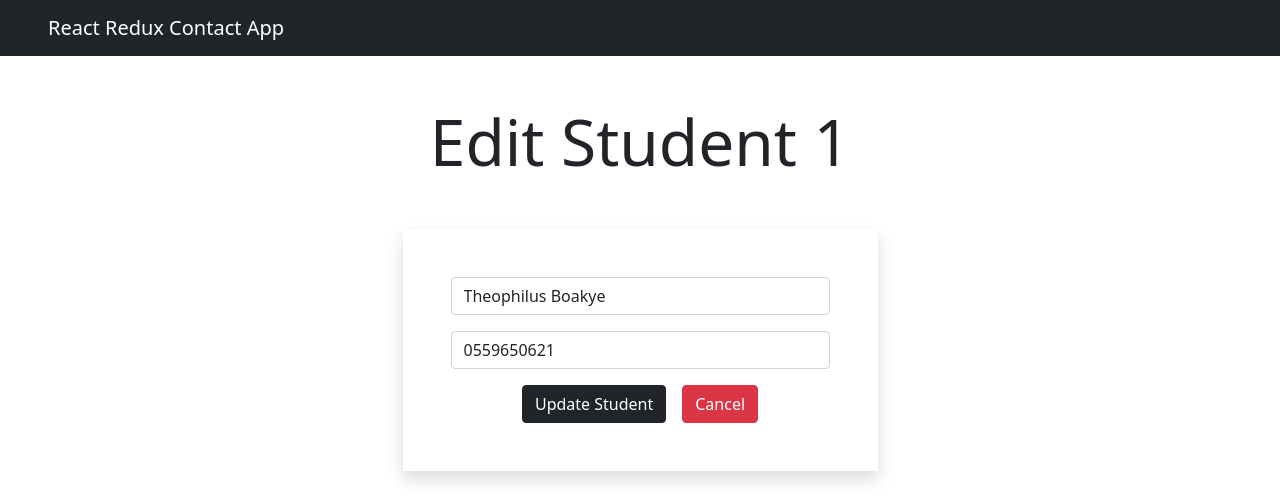
Scenario: App › when user change contact info and update it, that details must be displayed in the table element
This screenshot has width=1280, height=501.
Type "Tracy Boakye Yiadom" into the field showing "Theophilus Boakye" at (640, 296), box [450, 277, 830, 315]
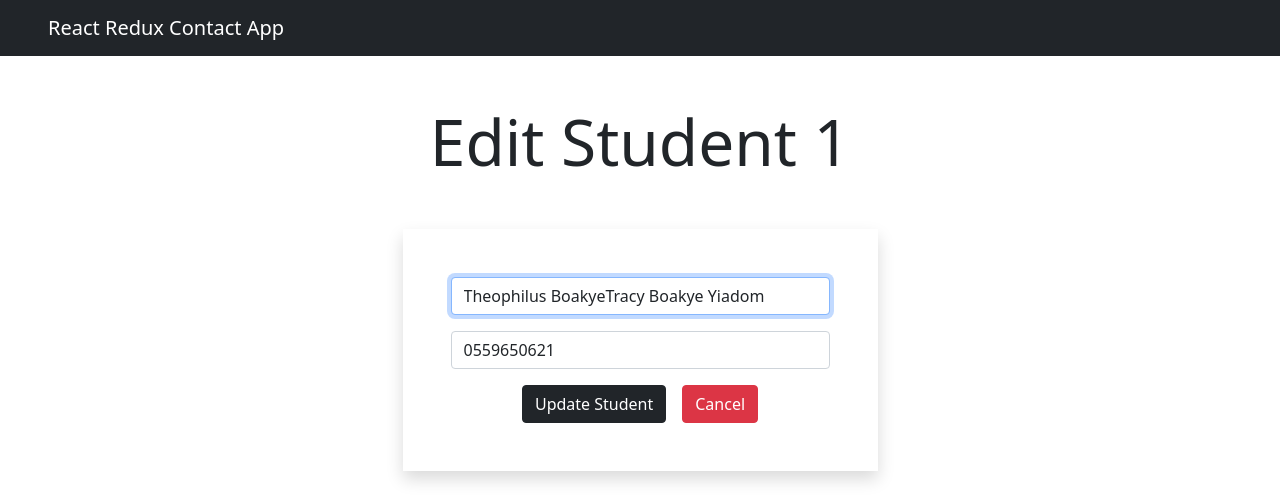
Type "00103910910190" into the number field showing "0559650621" at (640, 350), box [450, 331, 830, 369]
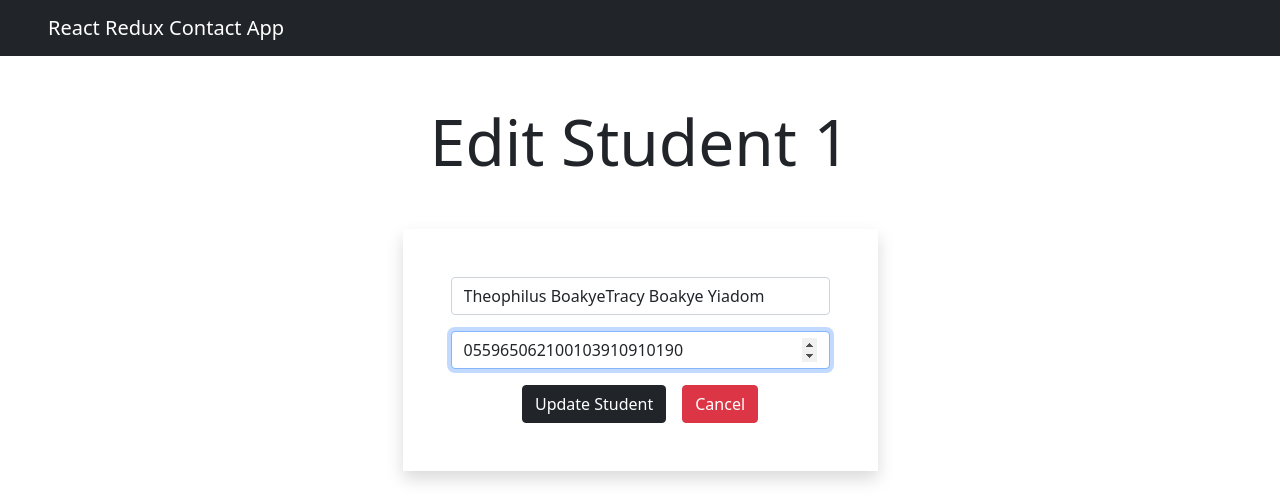
Click the button "Update Student" at (594, 404), box [522, 385, 666, 423]
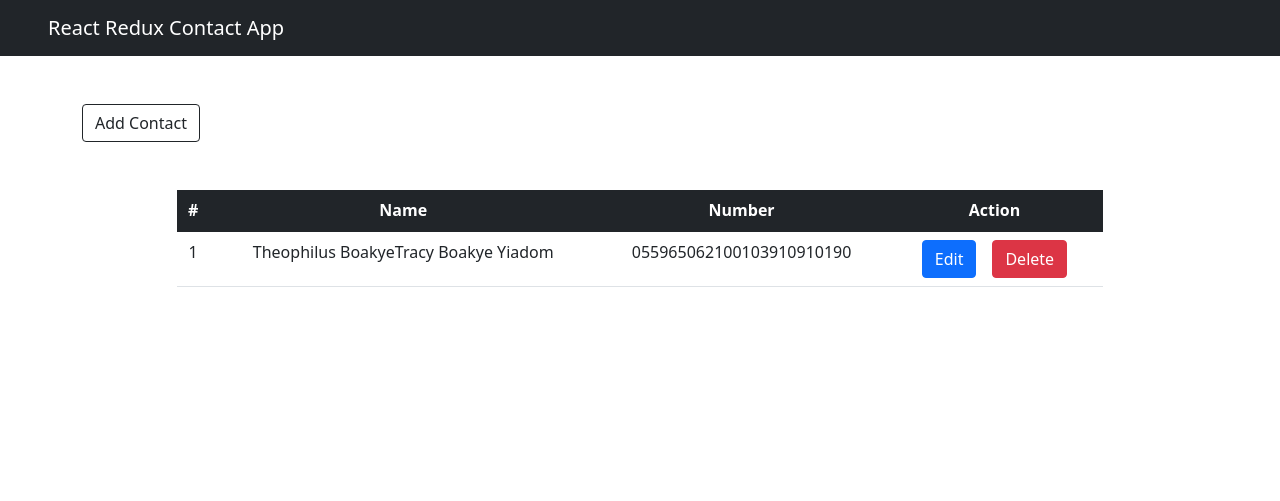
expect the text "Tracy Boakye Yiadom" is shown: met, box [253, 241, 554, 263]
